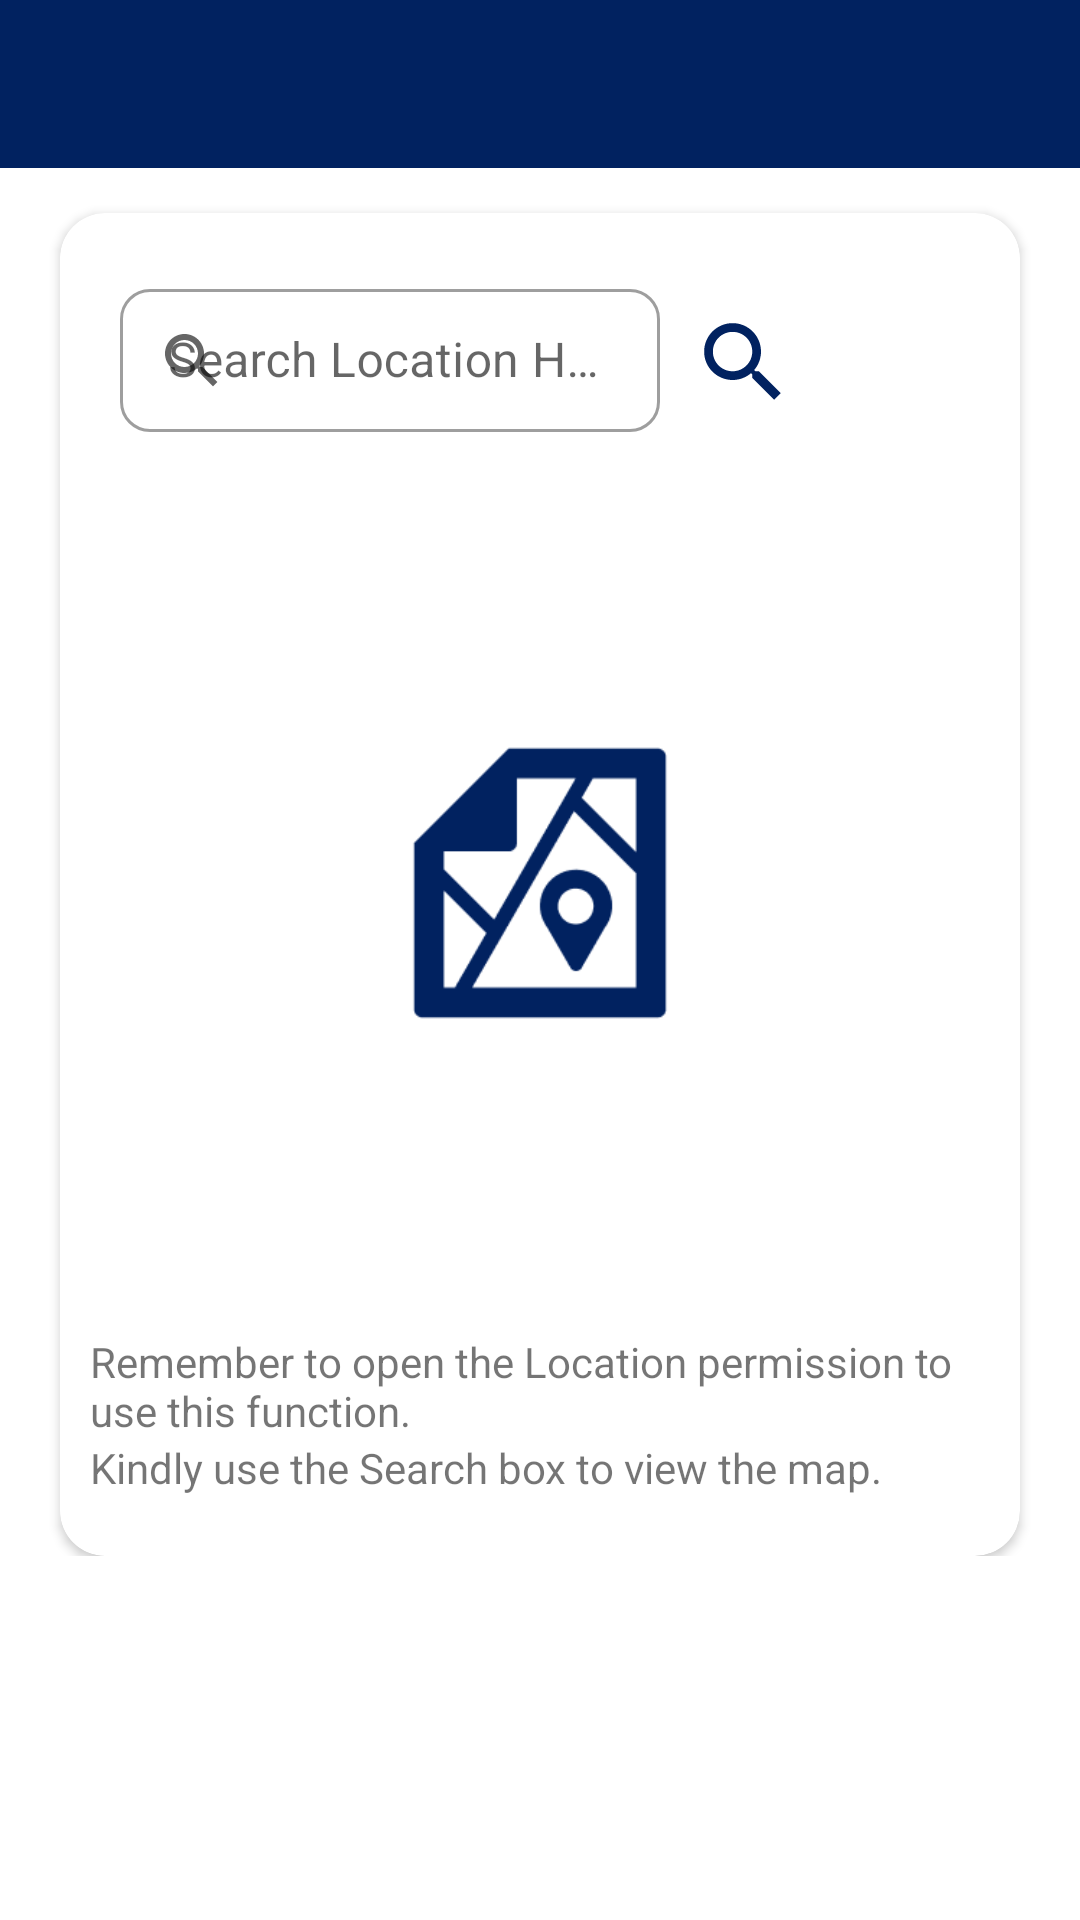

Where icons sit on this 1080*1920 app screen, as (left=x1, top=y1, right=x2, bottom=y2):
map: (left=413, top=747, right=667, bottom=1019)
